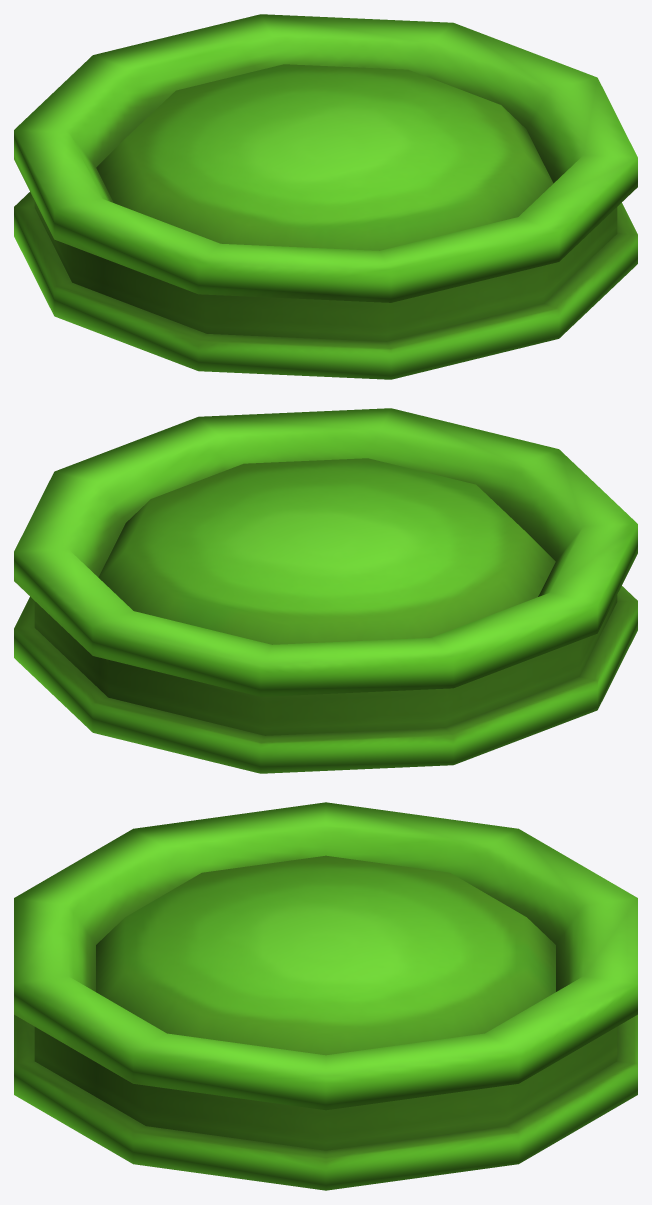
Rendered from JetonVert.FBX.
3 views of the same model, one above another, from view 1: azimuth 30°, elevation 25°; view 2: azimuth 150°, elevation 25°; view 3: azimuth 270°, elevation 25° (orthographic). The views are drawn at different scales.
Visible parts, largest first — view 1: JetonVert; view 2: JetonVert; view 3: JetonVert.
Part boxes in pixels (x1,y1,x2,y2): JetonVert: (14,14,637,379); JetonVert: (14,408,637,773); JetonVert: (14,802,637,1190).
Size of the model in its own units: 0.91 by 0.17 by 0.8655.
